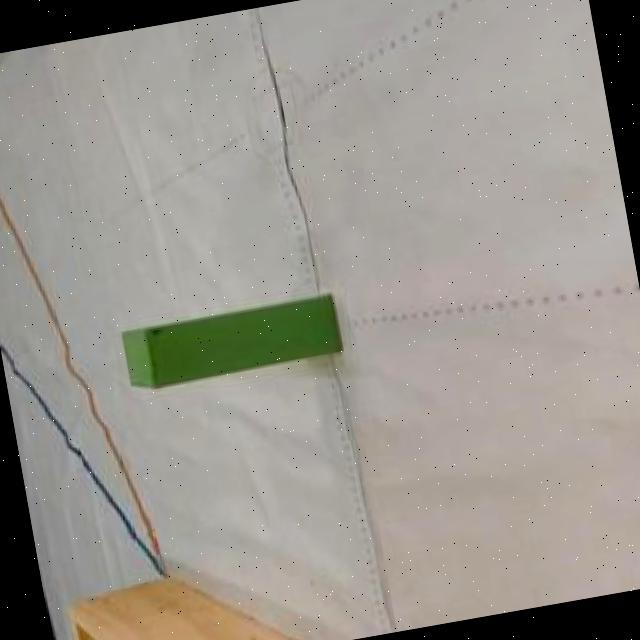greenbox: (112, 288, 344, 396)
